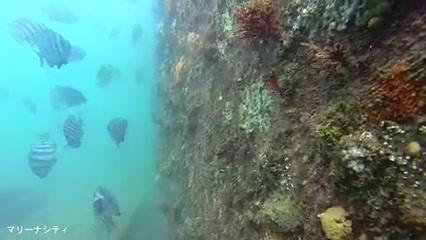ishidai: (25, 133, 64, 182)
smallfish: (29, 24, 77, 79)
